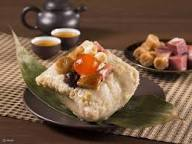zongzi: (31, 40, 139, 122)
